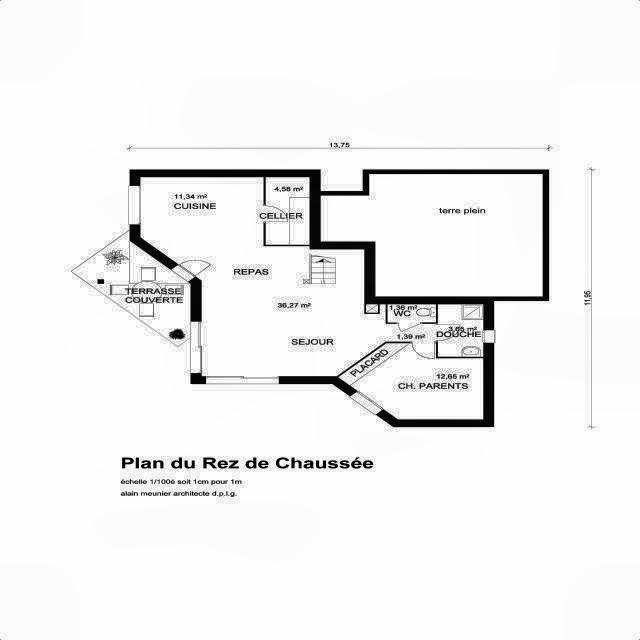room: (140, 177, 436, 376), (321, 174, 543, 296), (338, 343, 483, 419), (266, 177, 310, 245), (438, 304, 483, 357), (388, 304, 436, 322)
